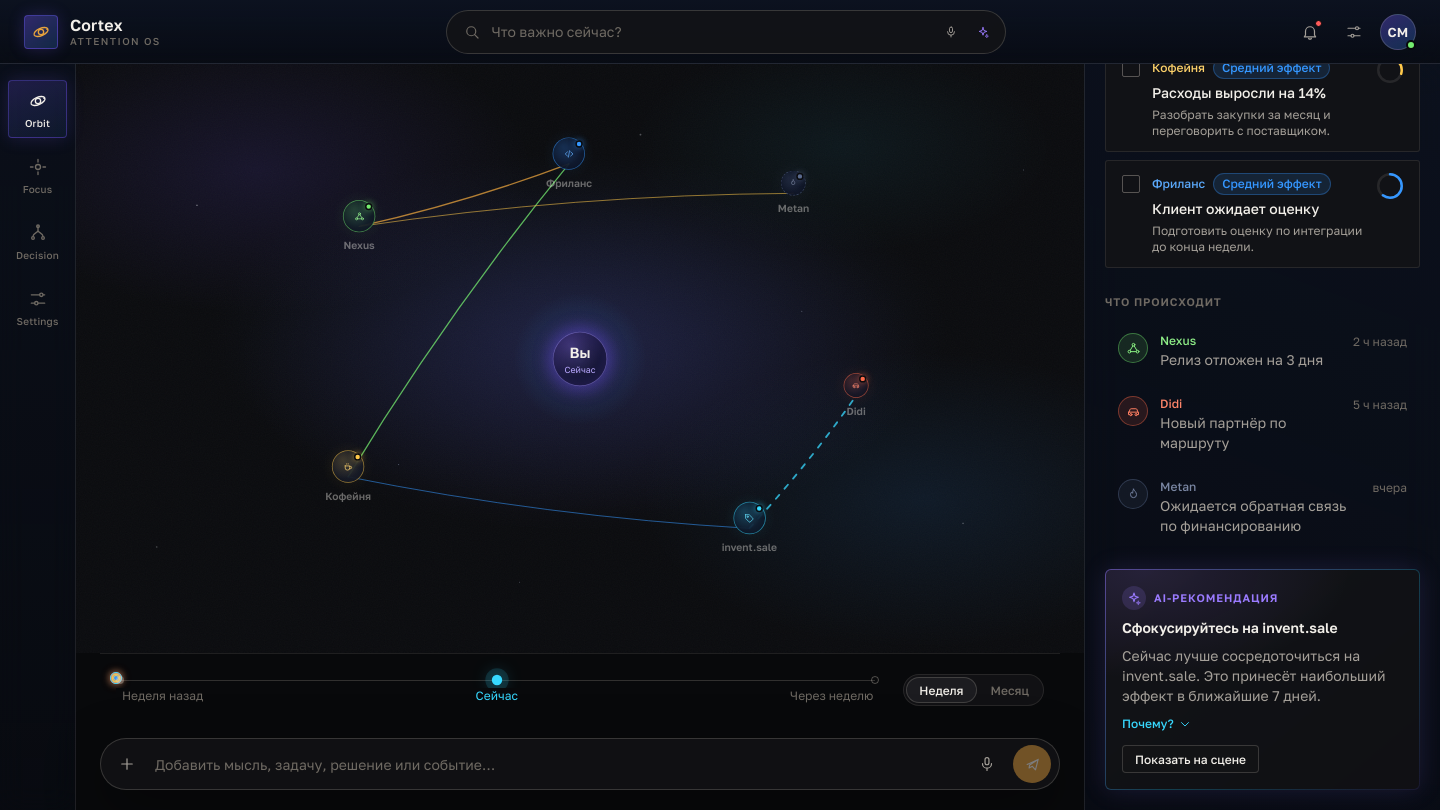
it: OrbitPage — интерактивные сценарии › AI-рекомендация раскрывает причины по «Почему?»
The image size is (1440, 810).
(page scrolled)
What coordinates should you click on to do the following:
click the button "Почему?"
I would click on:
 (1157, 724)
Its box is [1122,714,1192,733].
(page scrolled)
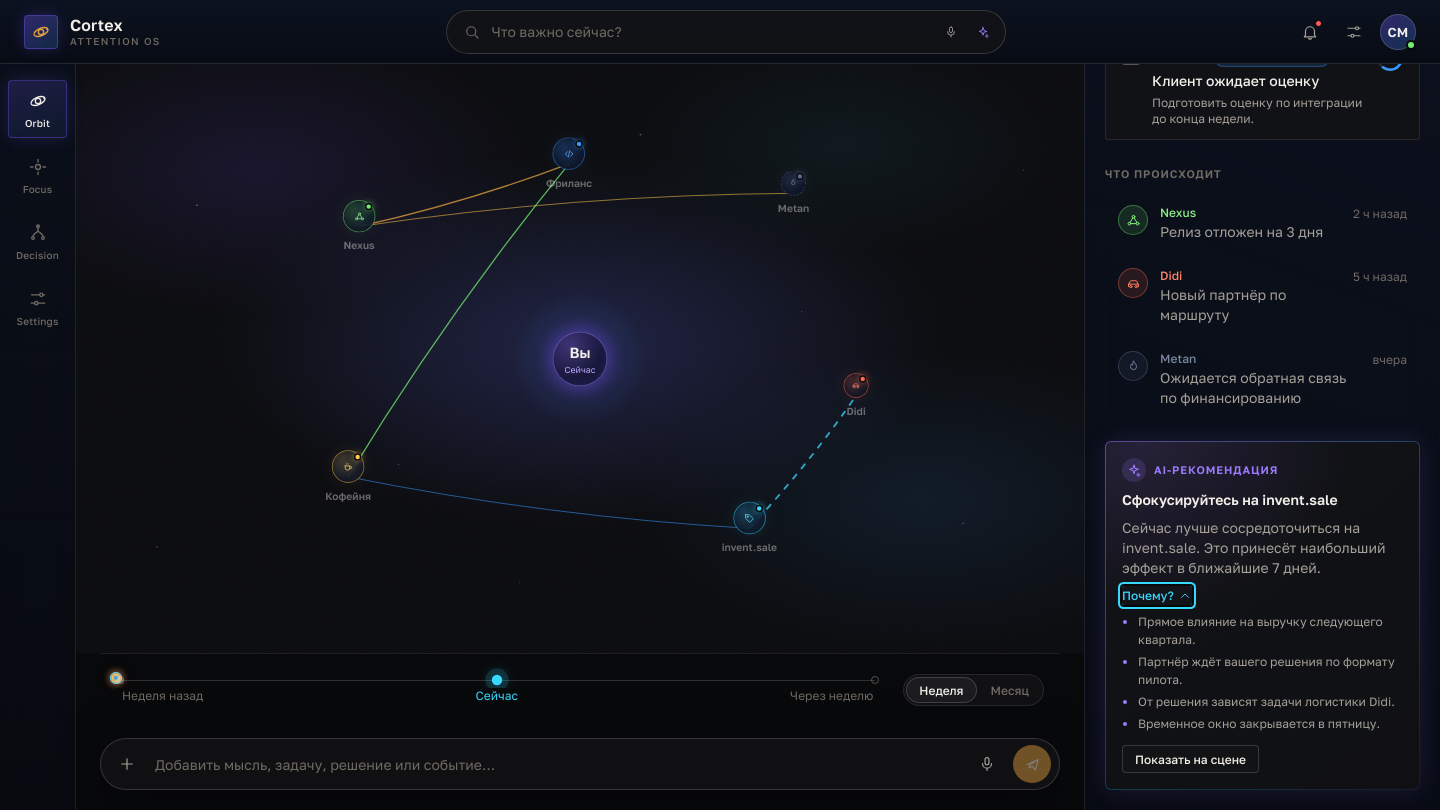
Check: the button "Почему?" is expanded, box [1122,586,1192,605]
Check: the list item "Партнёр ждёт вашего решения по формату пилота." is shown, box [1138,653,1403,689]
